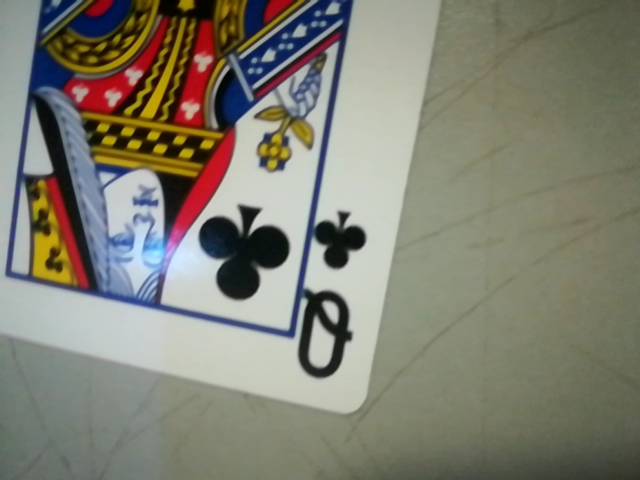mh q: (293, 202, 377, 391)
